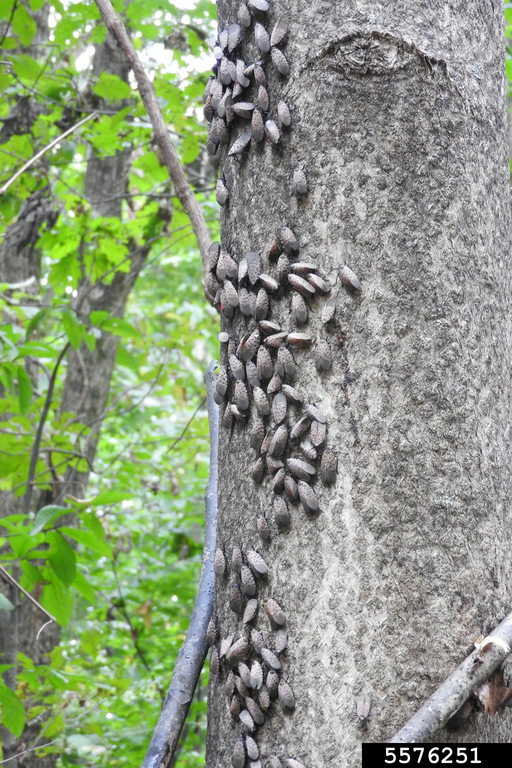adult: (297, 480, 319, 515), (337, 264, 362, 294), (262, 596, 284, 630), (289, 167, 316, 194), (276, 344, 296, 378), (266, 47, 290, 75), (243, 548, 267, 575), (286, 457, 314, 479), (217, 245, 237, 275), (280, 221, 298, 254), (269, 15, 288, 45), (286, 275, 313, 296), (271, 496, 289, 527), (254, 344, 272, 375), (251, 385, 268, 415), (283, 383, 306, 405), (242, 567, 261, 593), (290, 410, 307, 439), (246, 698, 264, 725), (218, 56, 238, 80), (230, 131, 248, 157), (217, 289, 233, 318), (225, 638, 247, 659), (229, 571, 241, 609), (275, 99, 291, 127), (322, 445, 334, 482), (314, 335, 327, 369), (261, 648, 284, 667), (253, 21, 268, 50), (264, 119, 282, 143), (211, 114, 227, 141), (276, 681, 291, 709), (273, 628, 292, 650), (247, 0, 273, 16), (286, 333, 312, 349), (244, 735, 261, 759), (205, 120, 217, 154), (258, 84, 272, 113), (289, 292, 303, 321), (213, 543, 226, 574), (322, 296, 335, 327), (254, 513, 270, 538), (306, 404, 326, 424), (258, 272, 277, 293), (223, 277, 237, 305), (236, 381, 249, 411), (244, 326, 256, 358), (217, 358, 227, 396), (230, 740, 245, 765), (273, 255, 288, 280), (245, 360, 260, 385), (236, 59, 250, 85), (355, 697, 369, 723), (271, 393, 284, 421), (250, 656, 261, 688), (215, 175, 226, 207), (247, 251, 258, 283), (237, 1, 252, 24), (272, 425, 283, 456), (228, 23, 241, 49), (310, 420, 323, 446), (251, 624, 263, 652), (233, 101, 254, 116), (266, 669, 278, 695), (251, 418, 261, 449), (245, 595, 256, 623), (252, 108, 261, 142), (310, 273, 326, 292), (223, 90, 233, 120), (255, 289, 265, 319), (230, 353, 242, 378), (229, 547, 242, 570), (259, 685, 269, 714), (255, 321, 279, 333), (286, 473, 296, 501), (240, 288, 250, 316), (289, 261, 320, 270), (299, 441, 315, 458), (205, 620, 217, 642), (225, 329, 236, 353), (251, 454, 261, 479), (264, 333, 289, 343), (205, 274, 218, 293), (208, 240, 216, 270), (210, 649, 218, 678), (222, 400, 230, 429), (244, 62, 265, 73), (203, 76, 212, 101), (254, 67, 268, 83), (240, 713, 253, 730), (232, 81, 243, 101), (215, 30, 226, 49), (235, 677, 246, 696), (224, 673, 233, 696), (246, 287, 252, 321), (232, 406, 249, 418), (237, 254, 244, 283), (238, 663, 248, 683), (286, 758, 307, 767), (264, 755, 281, 766), (229, 700, 239, 718), (273, 468, 281, 490), (266, 457, 280, 468), (214, 82, 220, 107), (263, 423, 268, 453), (270, 375, 278, 388), (221, 85, 225, 110)
